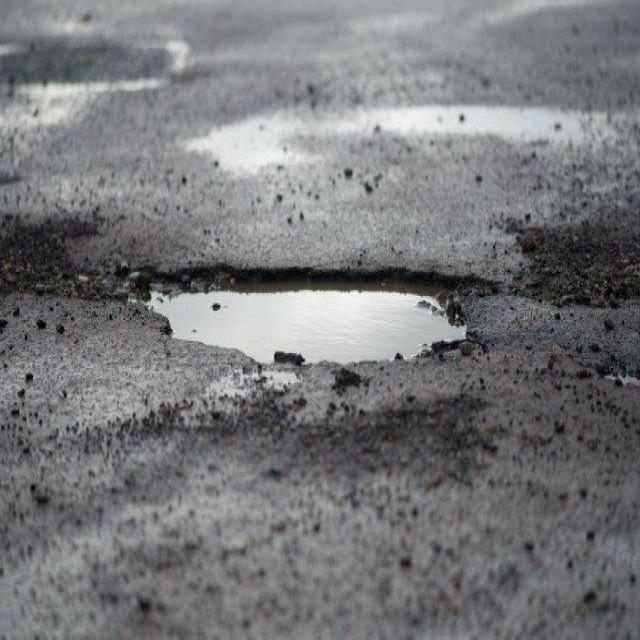lubang: (111, 237, 506, 391), (588, 332, 640, 400)
